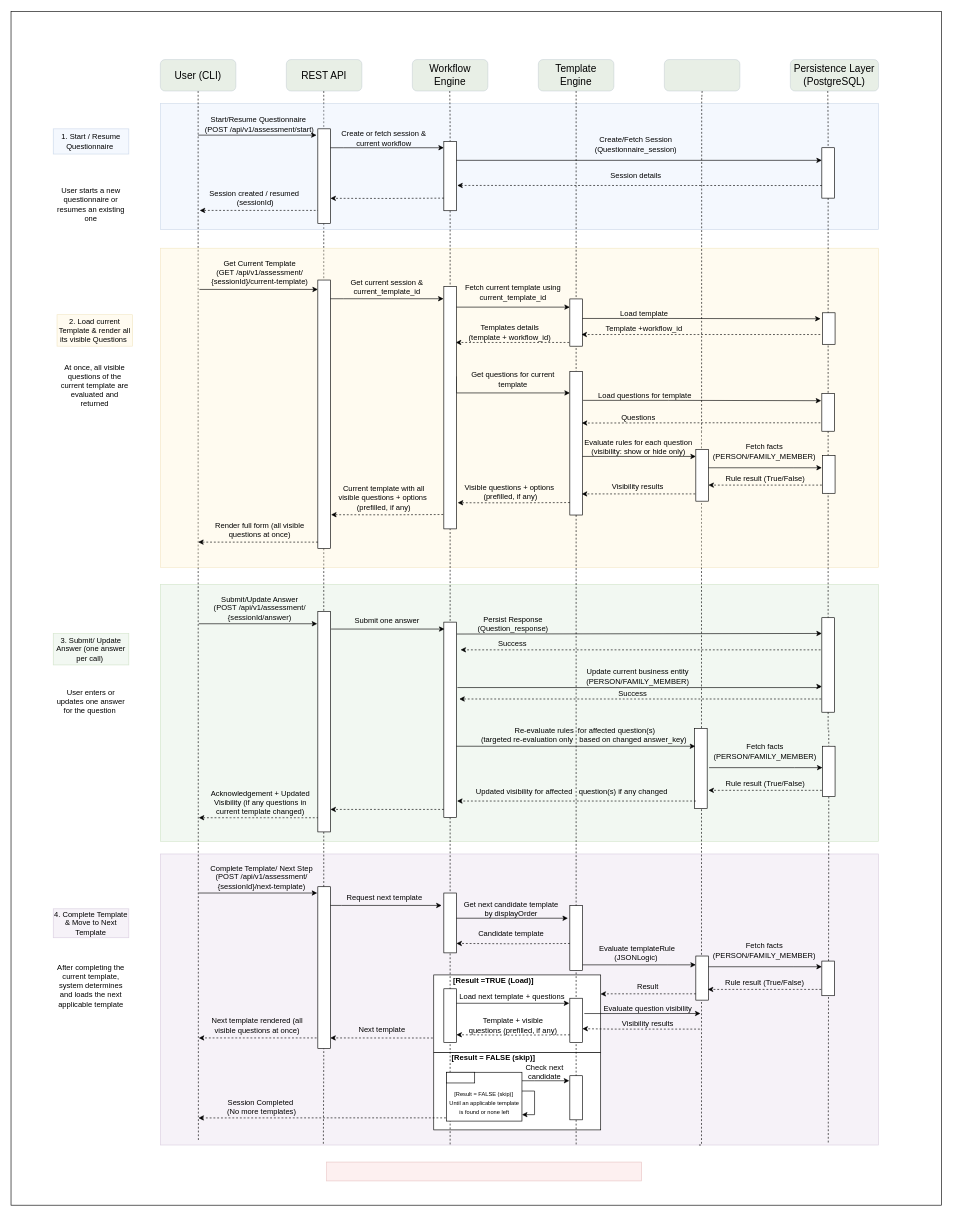
The diagram is 953 pixels wide and 1216 high, and some of its shapes have lost their labels. The centre of each missing label's shape, as x and y in pixels:
loop: [460,1077]
Rule Engine (JSONLogic): [702,75]
This flow repeats (Steps 2->3->4) until all workflow sections are completed: [484,1171]
